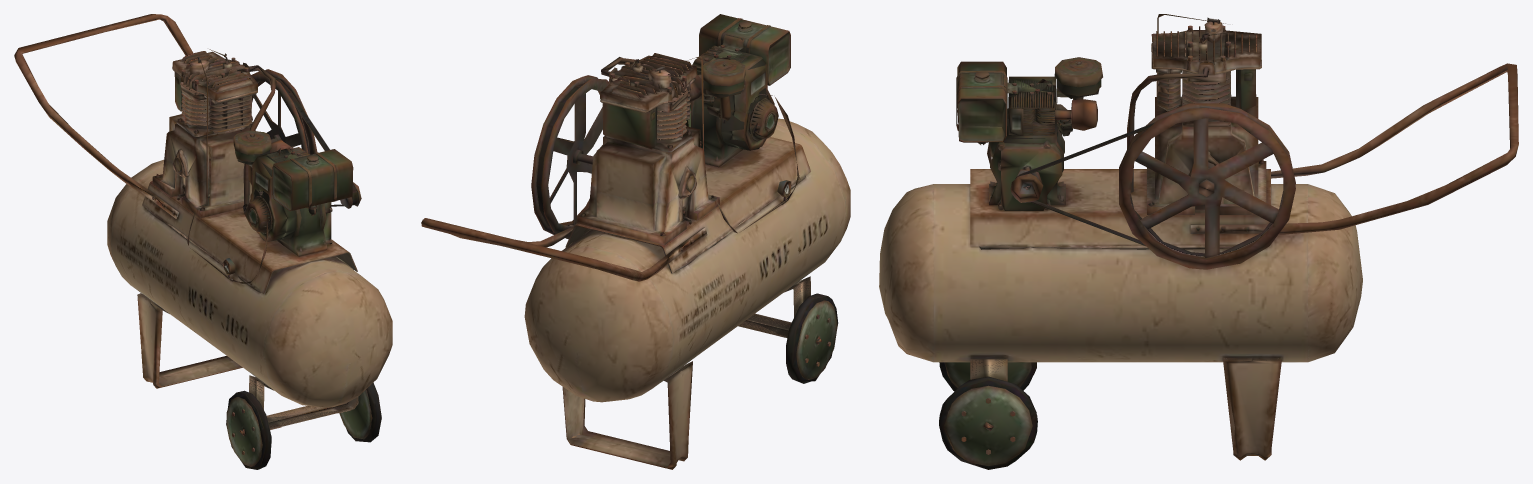
Rendered from old_military_compressor.gltf.
3 renders of one model, left to right at view 1: azimuth 30°, elevation 25°; view 2: azimuth 150°, elevation 25°; view 3: azimuth 270°, elevation 25°, orthographic. The views are drawn at different scales.
Visible parts, largest first — view 1: old_military_compressor; view 2: old_military_compressor; view 3: old_military_compressor.
Boxes of the visible parts, x1=… form: old_military_compressor: x1=14, y1=14, x2=392, y2=469; old_military_compressor: x1=421, y1=14, x2=850, y2=469; old_military_compressor: x1=879, y1=14, x2=1518, y2=469.
Size of the model in its own units: 0.5957 by 1.18 by 1.67.
2 materials, 2 textured.
